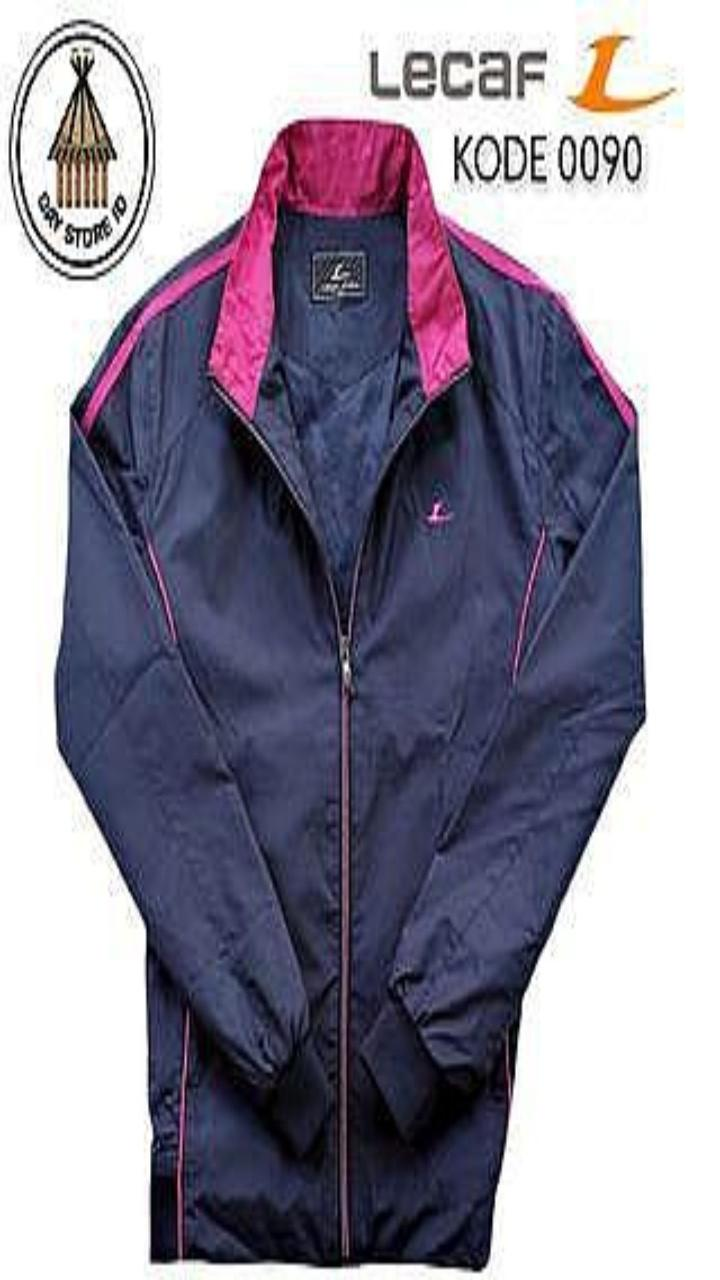Sports_Jacket: (56, 121, 643, 1267)
